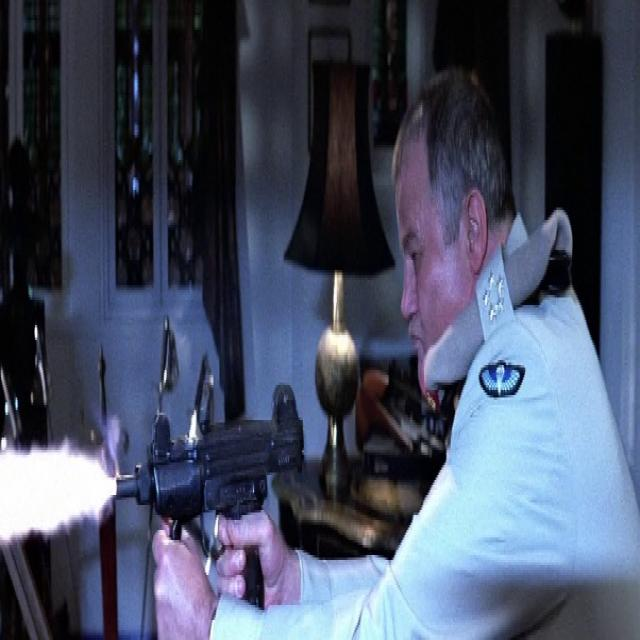rifle: (109, 351, 302, 620)
